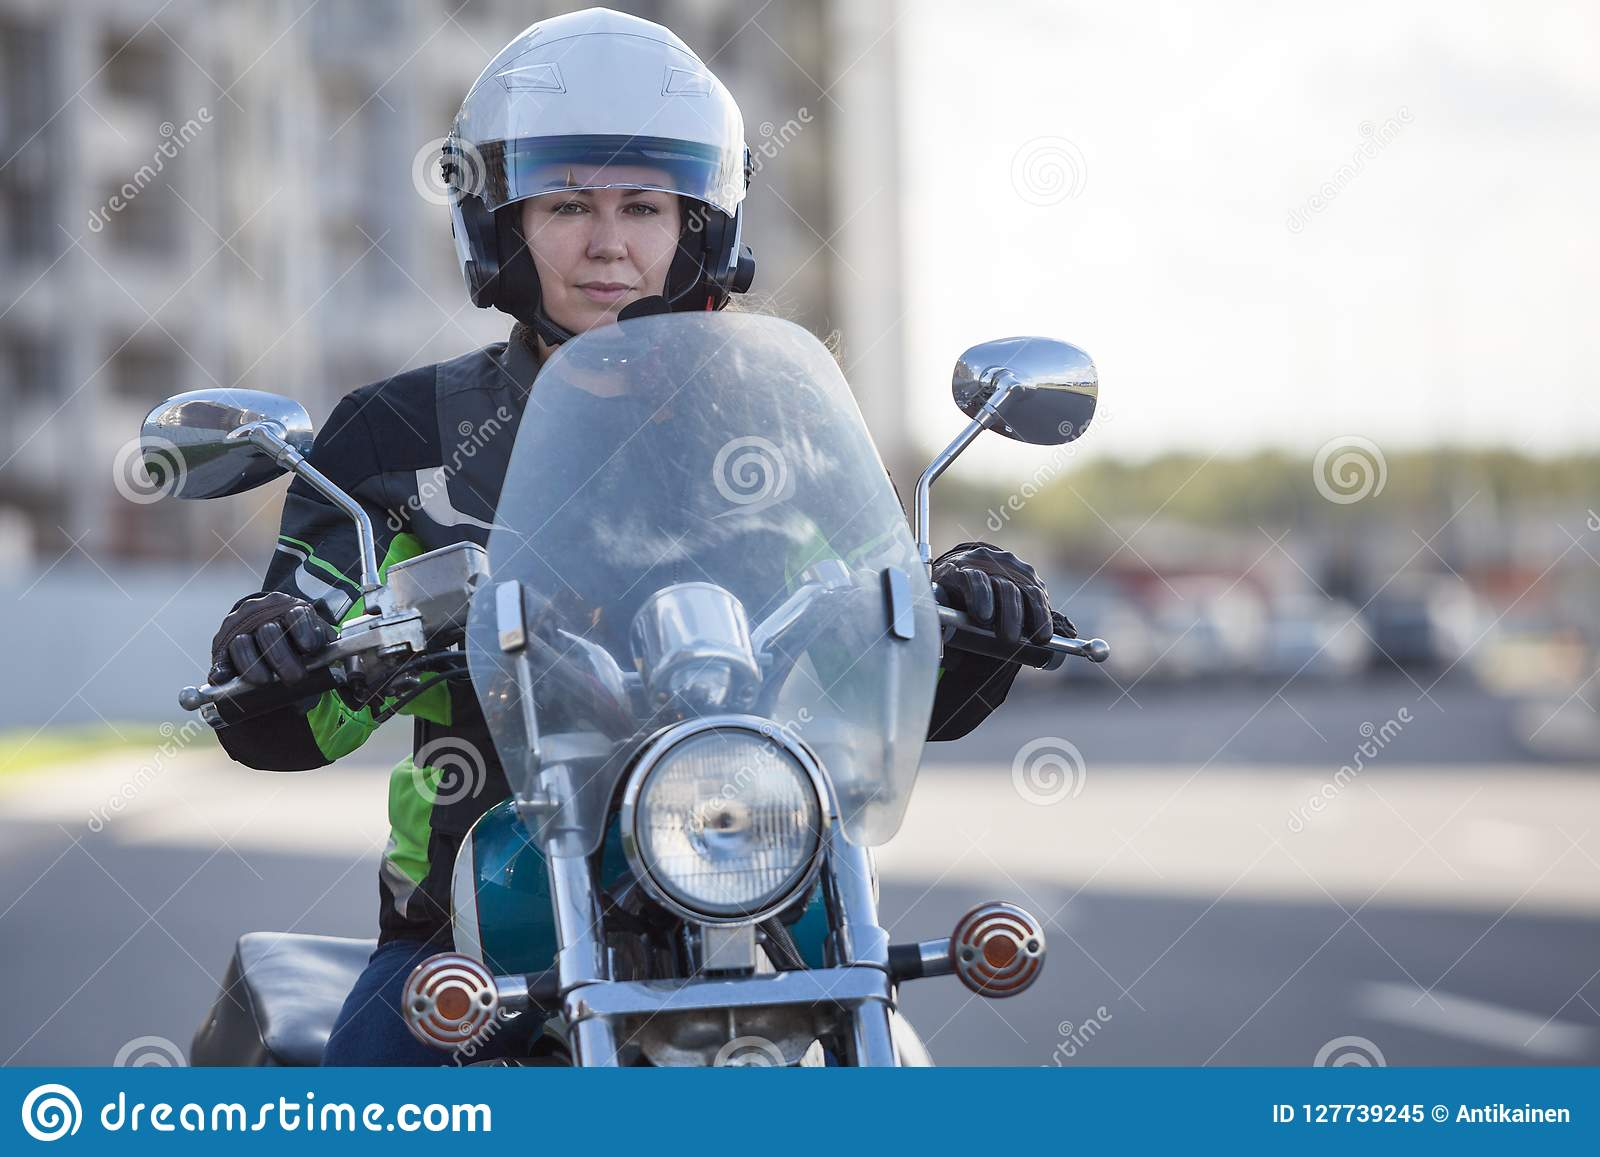helmet: (443, 29, 766, 300)
